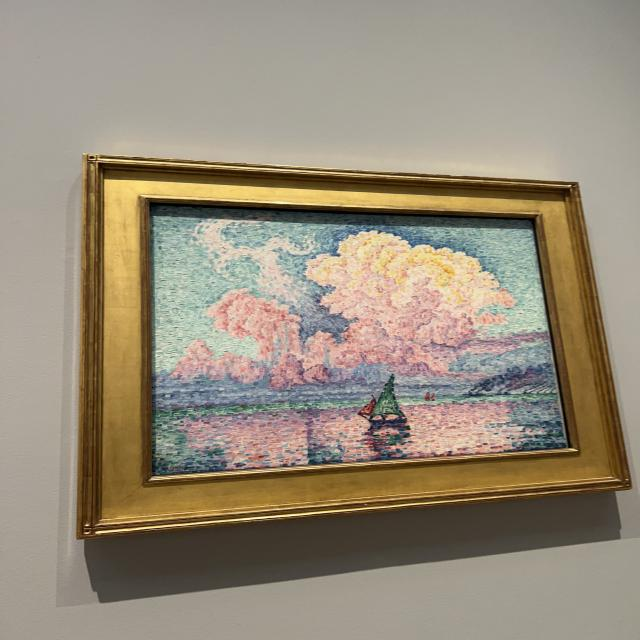sunrise: (155, 209, 567, 474)
